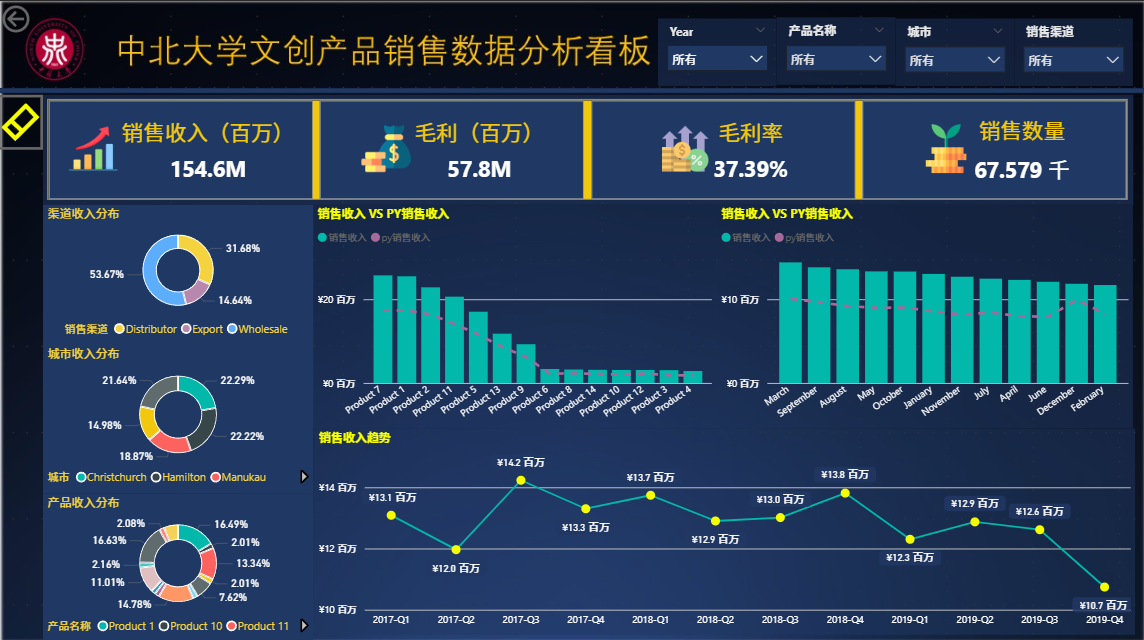

This screenshot's page, from the dashboard's own definition file:
{"tool":"powerbi","page":{"name":"第 1 页","canvas":[1280,720],"ordinal":0},"visuals":[{"type":"slicer","fields":{"Values":["dDate.Year"]},"box":[734.4,19.6,132.2,75.3],"z":0},{"type":"slicer","fields":{"Values":["Products_Data.产品名称"]},"box":[866.6,17.9,132.2,75.3],"z":1000},{"type":"slicer","fields":{"Values":["Regions_Table.城市"]},"box":[998.7,19.6,132.2,75.3],"z":2000},{"type":"slicer","fields":{"Values":["Sales_Data.销售渠道"]},"box":[1130.9,19.6,132.2,75.3],"z":3000},{"type":"actionButton","box":[0,0,100,40],"z":4000},{"type":"cardVisual","fields":{"Data":["DEX.销售收入百万表示","DEX.毛利百万标识","DEX.毛利率","DEX.销售数量"]},"box":[49.8,104.3,1213.6,122.1],"z":5000},{"type":"donutChart","title":"渠道收入分布","fields":{"Series":["Sales_Data.销售渠道"],"Y":["DEX.销售收入"]},"box":[49.8,226.4,301,156.4],"z":6000},{"type":"donutChart","title":"城市收入分布","fields":{"Y":["Sum(Sales_Data.销售收入)"],"Series":["Regions_Table.城市"]},"box":[49.8,382.8,301,165.9],"z":7000},{"type":"donutChart","title":"产品收入分布","fields":{"Y":["DEX.销售收入"],"Series":["Products_Data.产品名称"]},"box":[49.8,548.7,301,165.9],"z":8000},{"type":"lineChart","title":"销售收入趋势","fields":{"Y":["DEX.销售收入"],"Category":["dDate.Year-Quarter"]},"box":[352,475.3,913.8,229.9],"z":9000},{"type":"lineClusteredColumnComboChart","title":"销售收入 VS PY销售收入","fields":{"Category":["Products_Data.产品名称"],"Y":["DEX.销售收入"],"Y2":["DEX.py销售收入"]},"box":[350.6,226.8,449.4,249],"z":10000},{"type":"lineClusteredColumnComboChart","title":"销售收入 VS PY销售收入","fields":{"Category":["dDate.Month"],"Y":["DEX.销售收入"],"Y2":["DEX.py销售收入"]},"box":[800,226.8,463.3,249],"z":10001},{"type":"actionButton","box":[0,104.3,50.1,61.2],"z":10002}]}

Visuals, with their boxes in screenshot pixels (x1, y1, x2, y2), scaled from the page's 1280x720 canvas onto the 1144x640 screenshot:
slicer - dDate.Year: left=656, top=17, right=775, bottom=84
slicer - Products_Data.产品名称: left=775, top=16, right=893, bottom=83
slicer - Regions_Table.城市: left=893, top=17, right=1011, bottom=84
slicer - Sales_Data.销售渠道: left=1011, top=17, right=1129, bottom=84
actionButton: left=0, top=0, right=89, bottom=36
cardVisual - DEX.销售收入百万表示 x DEX.毛利百万标识: left=45, top=93, right=1129, bottom=201
"渠道收入分布" donutChart: left=45, top=201, right=314, bottom=340
"城市收入分布" donutChart: left=45, top=340, right=314, bottom=488
"产品收入分布" donutChart: left=45, top=488, right=314, bottom=635
"销售收入趋势" lineChart: left=315, top=422, right=1131, bottom=627
"销售收入 VS PY销售收入" lineClusteredColumnComboChart: left=313, top=202, right=715, bottom=423
"销售收入 VS PY销售收入" lineClusteredColumnComboChart: left=715, top=202, right=1129, bottom=423
actionButton: left=0, top=93, right=45, bottom=147
